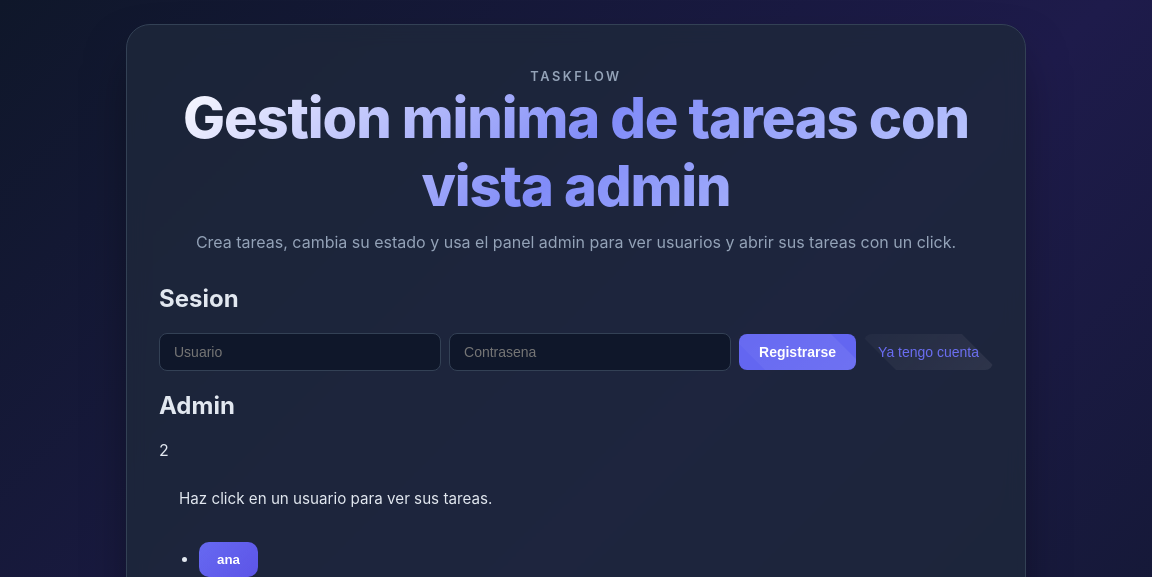
Test case: App › registra un usuario y guarda la sesion local
The image size is (1152, 577).
Type "ana" into the field with placeholder "Usuario" at x=300, y=352, box [159, 333, 441, 371]
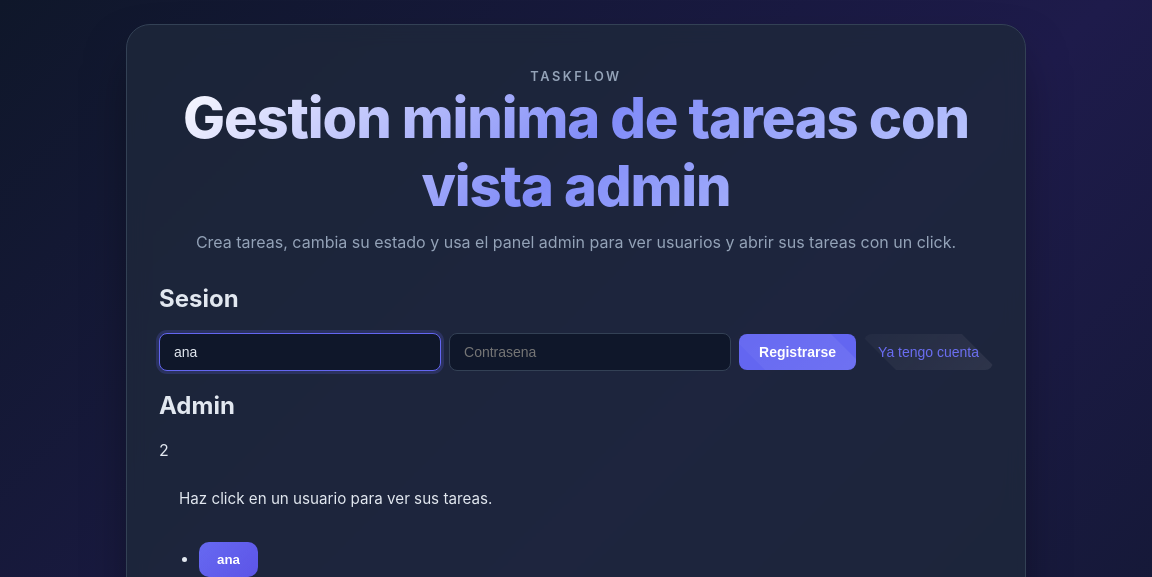
Type "secreta" into the password field with placeholder "Contrasena" at x=590, y=352, box [449, 333, 731, 371]
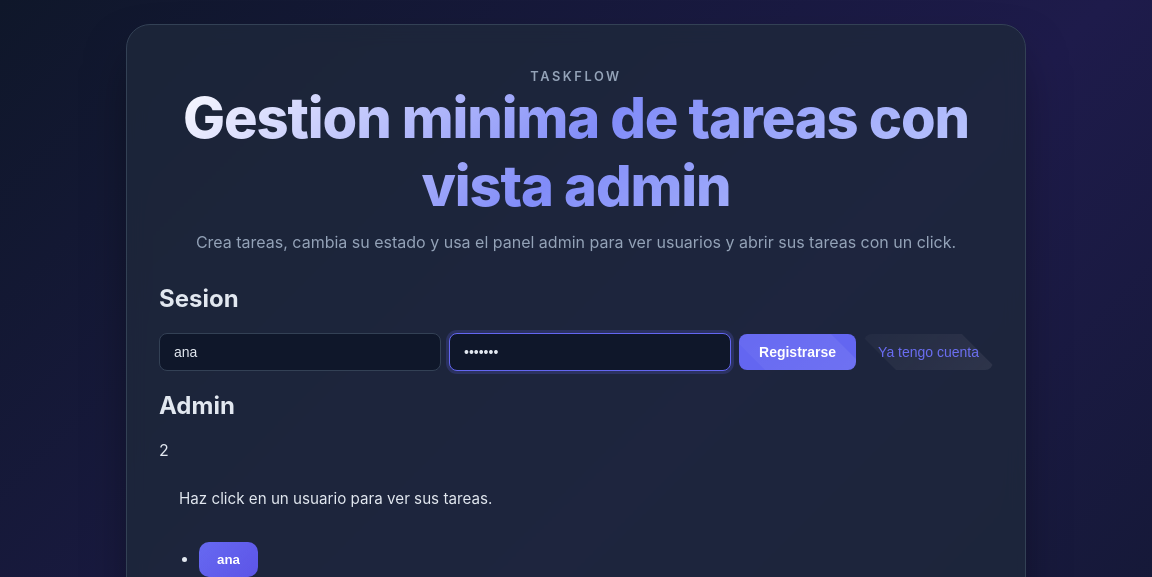
Click the button "Registrarse" at x=798, y=352, box [739, 334, 856, 370]
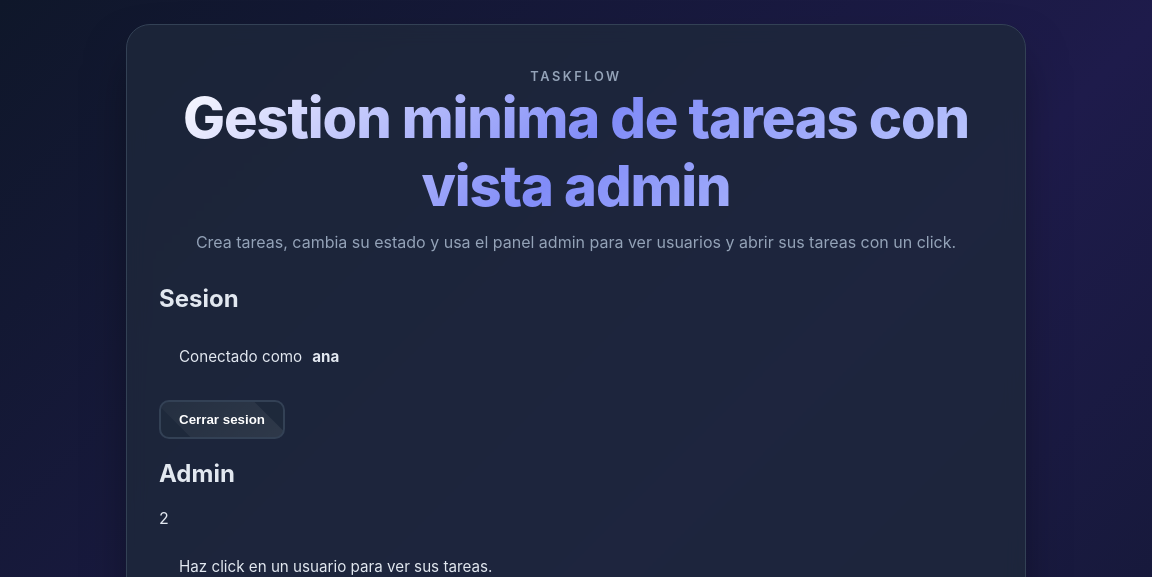
Expected: the text "ana" is shown, [312, 347, 339, 366]
